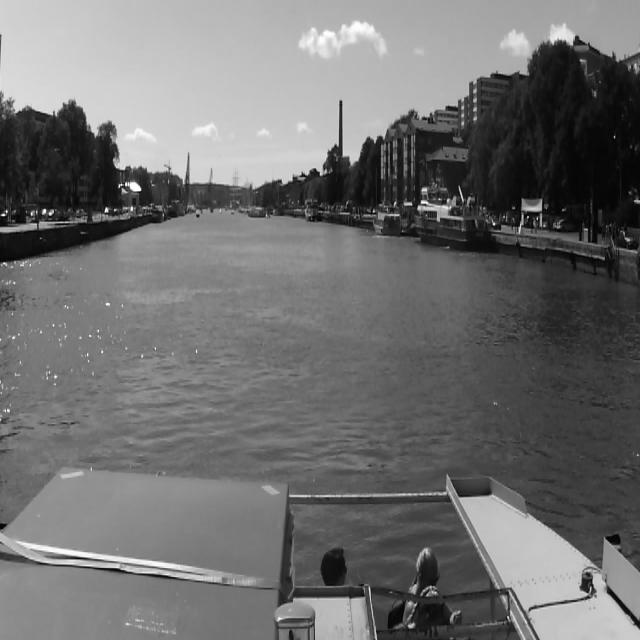ship: (416, 188, 492, 245), (372, 204, 404, 236), (305, 198, 319, 220)
